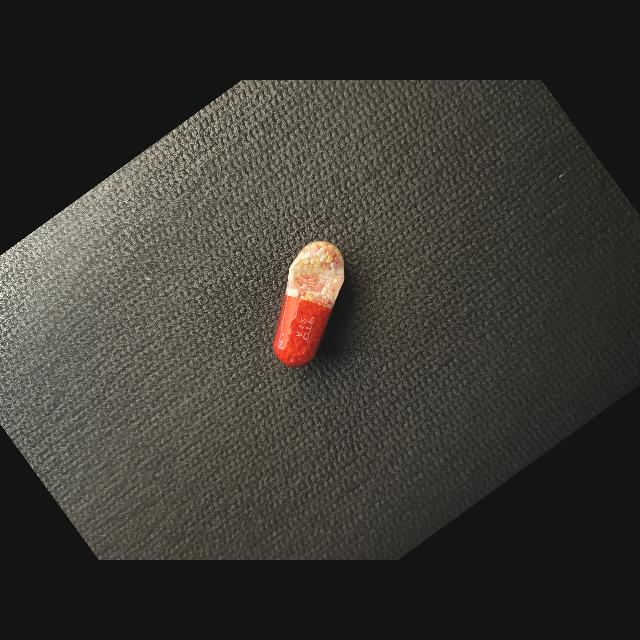Defective Capsule: (273, 241, 344, 367)
